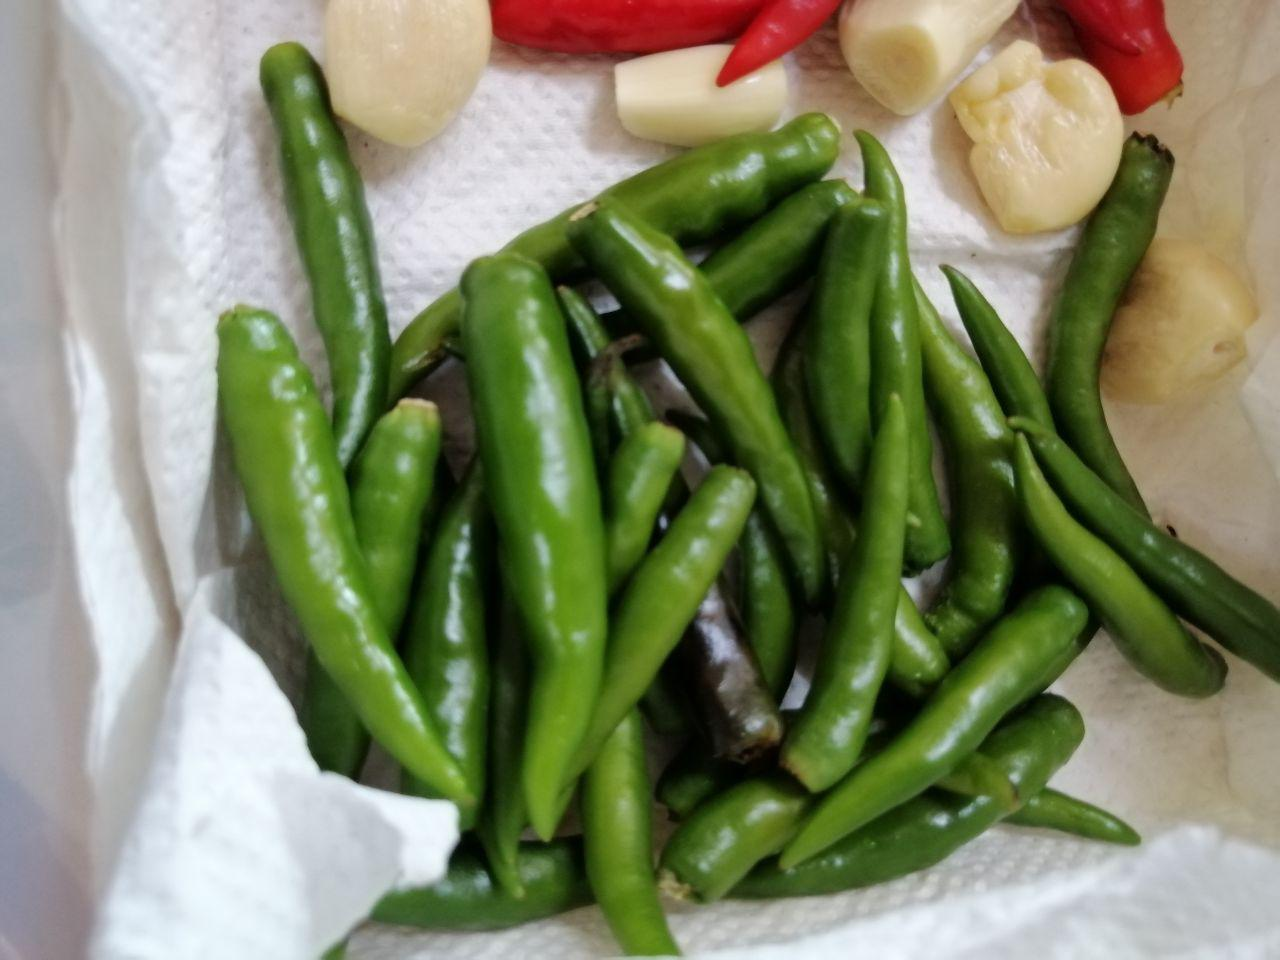lada hijau: (374, 100, 871, 392), (200, 292, 477, 803), (550, 175, 855, 600), (435, 237, 619, 893), (777, 592, 1102, 887), (518, 455, 766, 830), (1010, 403, 1277, 694), (285, 386, 449, 805), (991, 442, 1225, 728), (249, 33, 405, 461), (784, 368, 930, 818), (787, 399, 946, 802), (1038, 134, 1191, 527), (855, 128, 946, 583), (375, 828, 721, 947), (594, 415, 699, 586)
